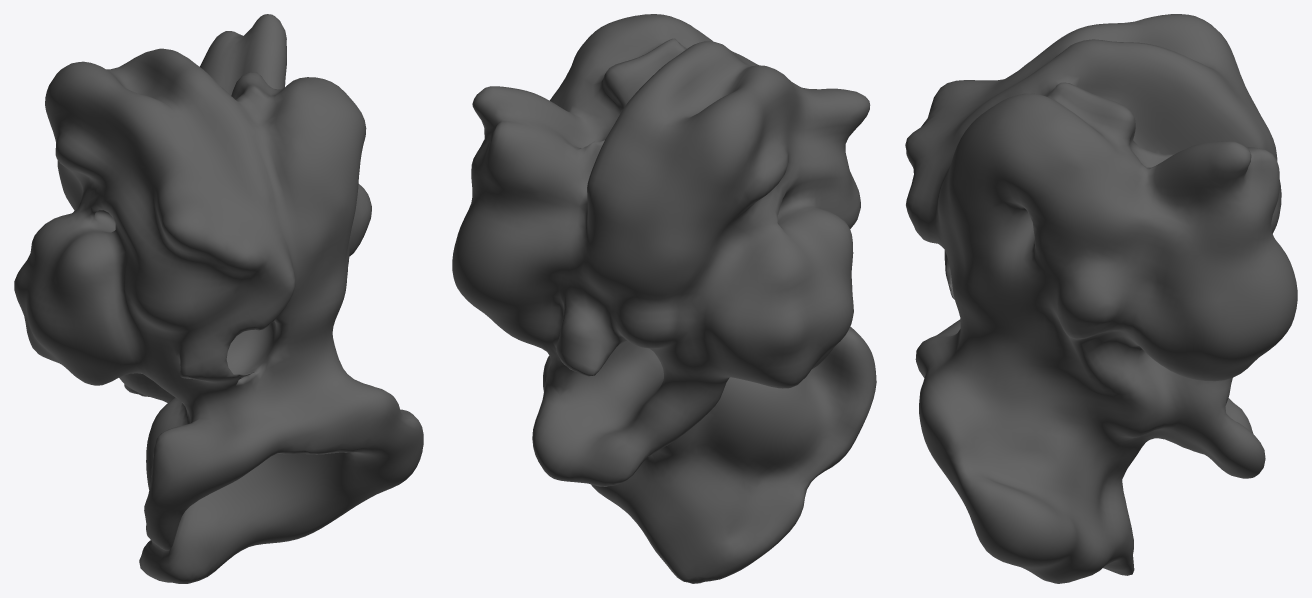
Rendered from 19_head_6.glb.
The picture shows the model from 3 angles, left to right: view 1: azimuth 30°, elevation 25°; view 2: azimuth 150°, elevation 25°; view 3: azimuth 270°, elevation 25°; orthographic projection. The views are drawn at different scales.
Visible parts, largest first — view 1: head6reto; view 2: head6reto; view 3: head6reto.
Part boxes in pixels (box(x1,y1,x2,y2)): head6reto: box(14, 14, 423, 583); head6reto: box(452, 14, 876, 583); head6reto: box(905, 14, 1297, 583).
Size of the model in its own units: 8.16 by 11.89 by 7.91.
1 material, 1 textured.
